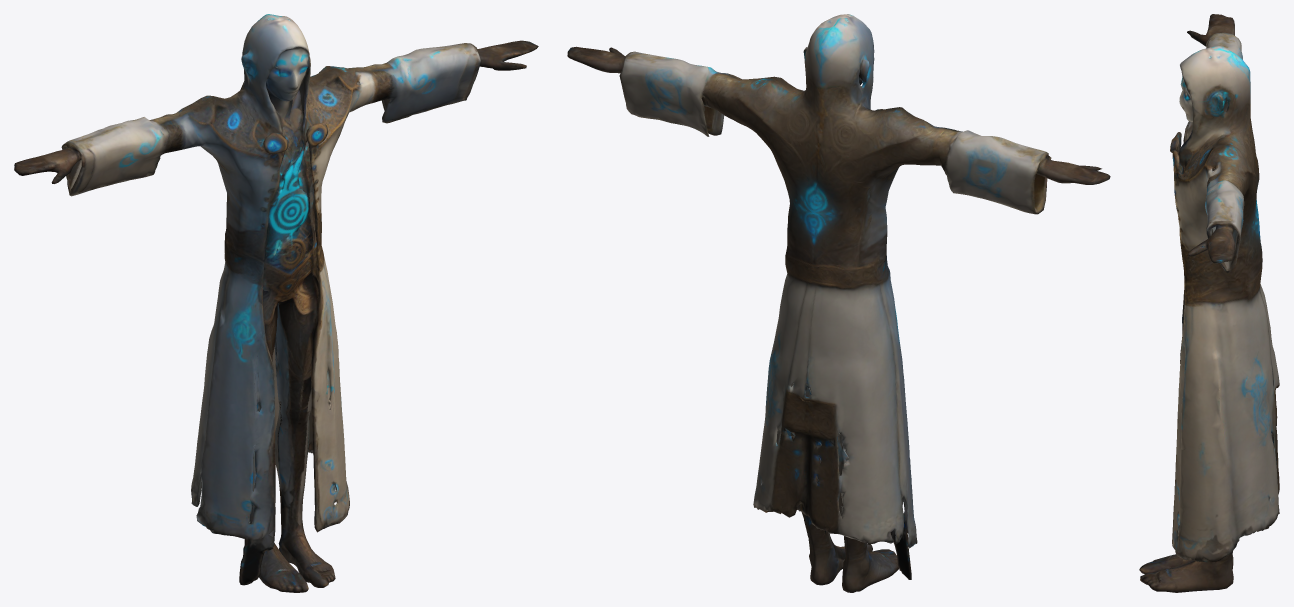
The model's file is Wisp.fbx.
The picture shows the model from 3 angles, left to right: view 1: azimuth 30°, elevation 25°; view 2: azimuth 150°, elevation 25°; view 3: azimuth 270°, elevation 25°; orthographic projection. The views are drawn at different scales.
Visible parts, largest first — view 1: Mesh_0; view 2: Mesh_0; view 3: Mesh_0.
Boxes of the visible parts, box(x1,y1,x2,y2) form: Mesh_0: box(14, 14, 538, 592); Mesh_0: box(567, 14, 1110, 592); Mesh_0: box(1139, 14, 1279, 592).
Size of the model in its own units: 196 by 197 by 47.06.
Materials: 1 (1 with a texture image).
